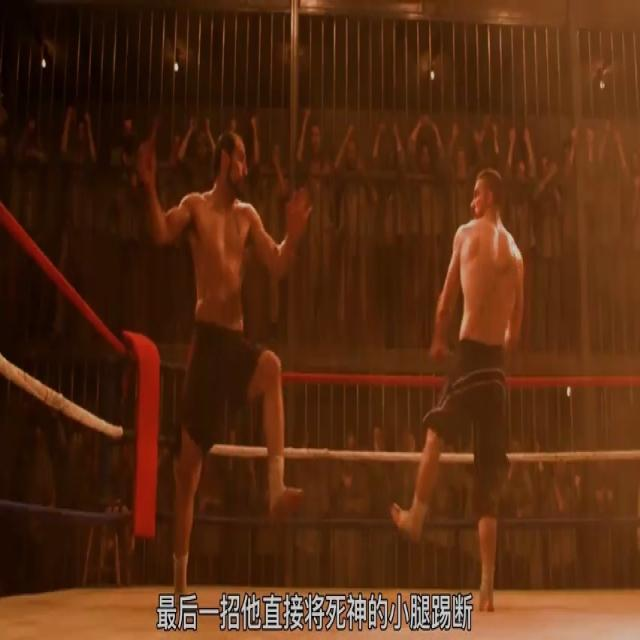fight: (131, 128, 524, 622)
